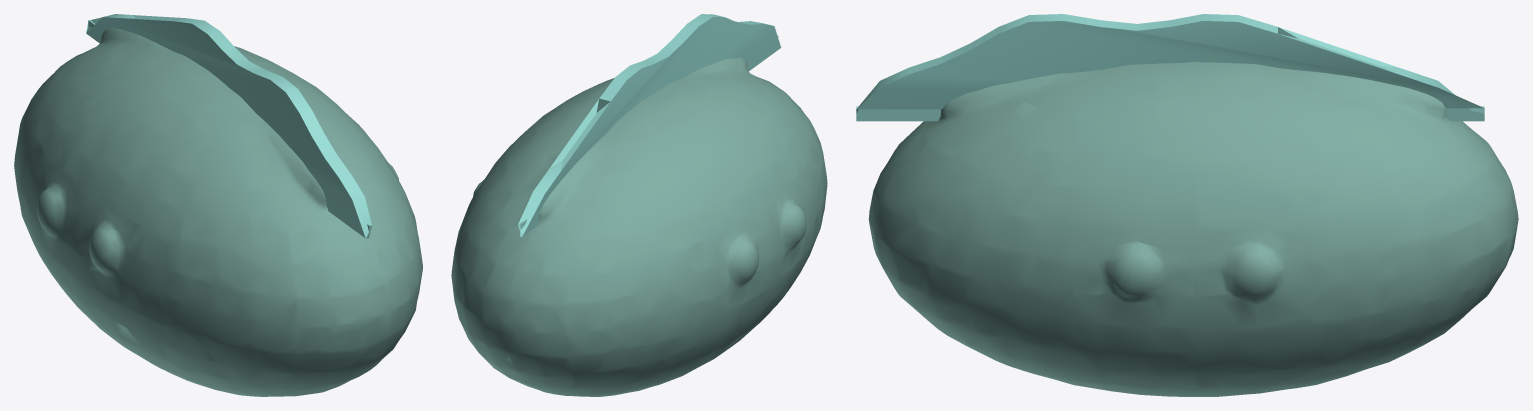
File: serpent_segment1.glb
The picture shows the model from 3 angles, left to right: view 1: azimuth 30°, elevation 25°; view 2: azimuth 150°, elevation 25°; view 3: azimuth 270°, elevation 25°; orthographic projection. The views are drawn at different scales.
Parts seen in each view (by area): view 1: Segment1, Dorsal; view 2: Segment1, Dorsal; view 3: Segment1, Dorsal.
Boxes of the visible parts, <box> form: Segment1: <box>14,27,422,396</box>; Dorsal: <box>86,14,372,238</box>; Segment1: <box>451,57,827,396</box>; Dorsal: <box>518,14,781,236</box>; Segment1: <box>868,62,1518,396</box>; Dorsal: <box>856,14,1484,121</box>.
Bounding box in the file's own units: 0.8383 × 0.8589 × 1.42.
